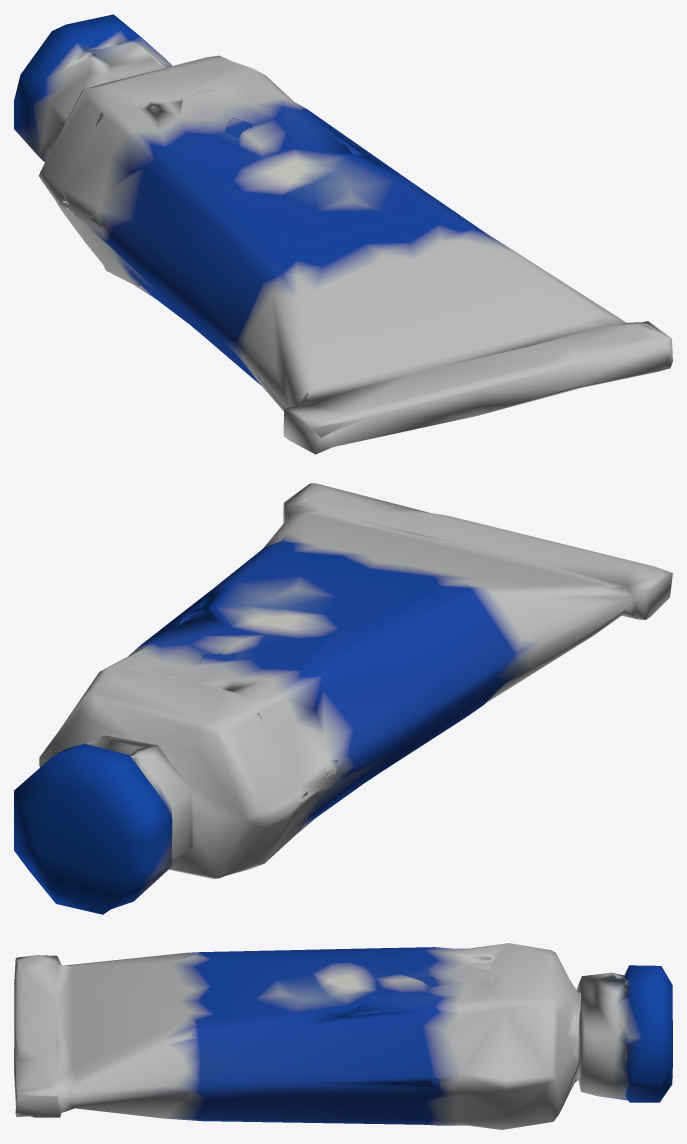
File: gen3d-toothpaste-tube-lod0.glb
3 views of the same model, one above another, from view 1: azimuth 30°, elevation 25°; view 2: azimuth 150°, elevation 25°; view 3: azimuth 270°, elevation 25° (orthographic). The views are drawn at different scales.
Visible parts, largest first — view 1: part_0; view 2: part_0; view 3: part_0.
Part boxes in pixels (x1,y1,x2,y2): part_0: (14, 14, 672, 454); part_0: (14, 483, 672, 914); part_0: (14, 943, 672, 1129).
Bounding box in the file's own units: 2.3 × 0.9965 × 4.58.
